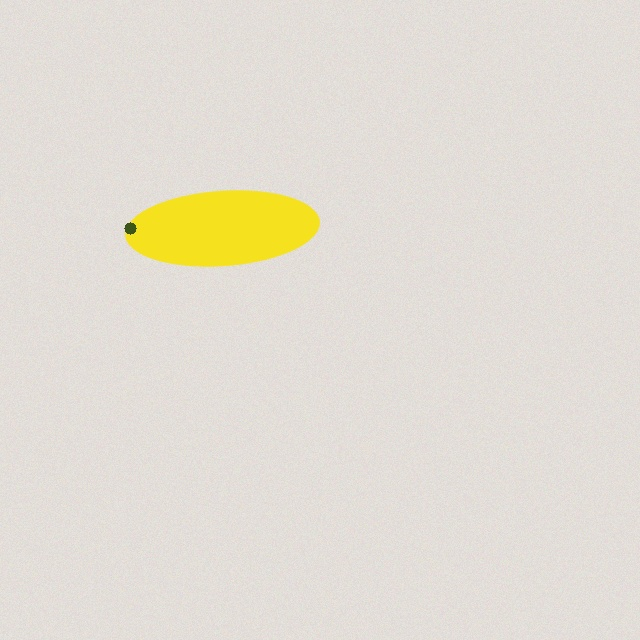Fresh banana: (121, 182, 323, 274)
